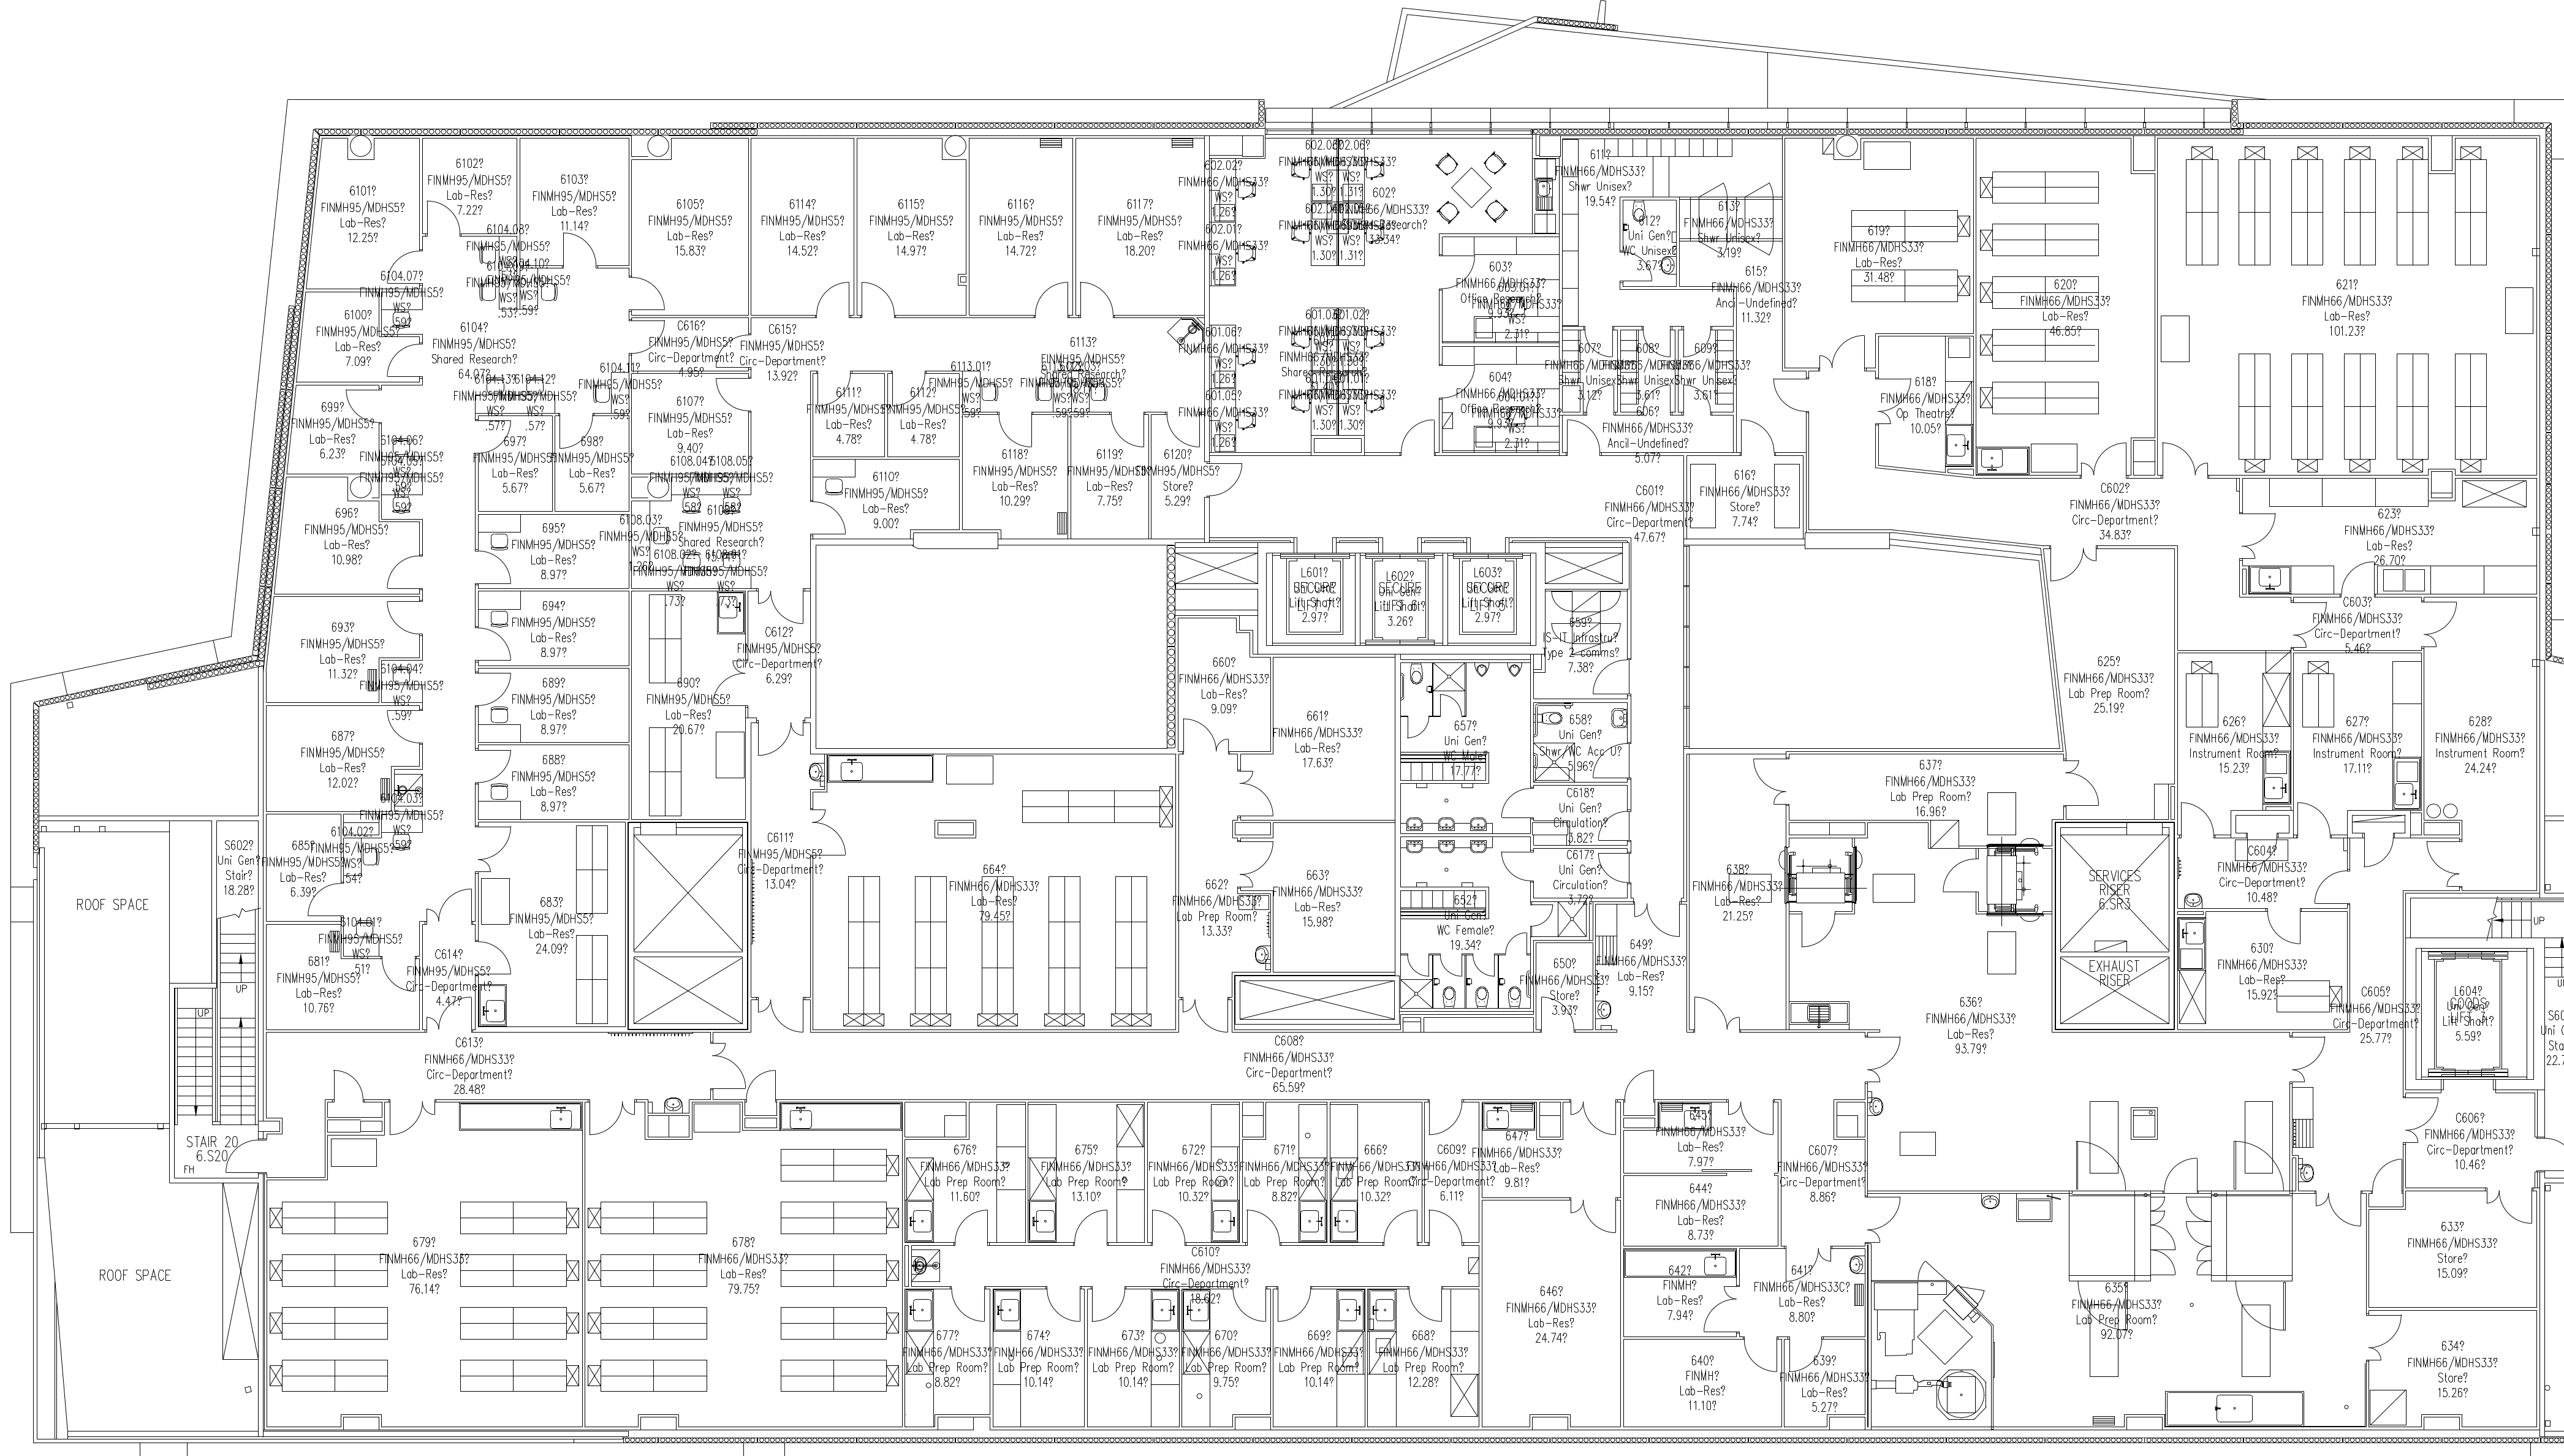door: (703, 657, 750, 713), (2180, 1194, 2212, 1276), (1782, 1232, 1837, 1280), (2150, 1195, 2182, 1276), (807, 803, 849, 863), (2358, 1312, 2407, 1363), (470, 822, 518, 875), (2288, 599, 2335, 650), (2418, 838, 2465, 889), (1868, 373, 1914, 426), (1234, 766, 1278, 820), (2059, 757, 2104, 808), (2238, 509, 2284, 560), (2418, 599, 2464, 650), (2078, 437, 2131, 481), (2161, 438, 2214, 482), (708, 1033, 747, 1093), (1569, 1097, 1618, 1143), (1567, 1192, 1618, 1236), (386, 1099, 438, 1141), (752, 995, 805, 1037), (1178, 713, 1231, 755), (1816, 331, 1868, 373), (2048, 540, 2101, 583), (2481, 1183, 2534, 1225), (1863, 1195, 1907, 1245), (1233, 838, 1275, 889), (1691, 993, 1742, 1035), (1699, 1283, 1742, 1335), (754, 586, 807, 627), (754, 717, 807, 757), (421, 884, 474, 924), (1178, 995, 1231, 1035), (1629, 898, 1682, 938), (2310, 1188, 2363, 1229), (1750, 755, 1791, 808), (1863, 1035, 1905, 1085), (1618, 1055, 1661, 1104), (421, 995, 472, 1035), (586, 1099, 637, 1139), (2402, 1093, 2441, 1144), (2288, 1035, 2326, 1085), (2157, 1153, 2201, 1195), (1742, 1333, 1780, 1379), (1437, 254, 1479, 294), (1594, 803, 1632, 843), (1495, 849, 1534, 889), (1787, 1333, 1826, 1371), (629, 319, 666, 359), (474, 417, 511, 458), (558, 412, 595, 452), (814, 280, 851, 320), (858, 278, 895, 319), (889, 366, 926, 407), (814, 366, 851, 407), (1032, 278, 1069, 319), (1078, 278, 1115, 319), (1108, 410, 1145, 451), (997, 408, 1034, 449), (810, 496, 847, 537), (1206, 460, 1243, 500), (1398, 417, 1435, 458), (1439, 363, 1476, 403), (1564, 419, 1601, 460), (1738, 417, 1775, 458), (1772, 377, 1809, 417), (1592, 657, 1629, 697), (1592, 739, 1629, 780), (1497, 783, 1534, 824), (1594, 850, 1631, 891), (2367, 1155, 2404, 1195), (1798, 910, 1835, 951), (1941, 856, 1978, 896), (2265, 907, 2302, 947), (2312, 864, 2349, 905), (2361, 833, 2398, 873), (2295, 799, 2332, 840), (2339, 556, 2376, 597), (475, 549, 512, 588), (475, 669, 512, 708), (474, 746, 511, 785), (386, 708, 423, 746), (306, 879, 343, 917), (380, 956, 417, 995), (328, 1067, 365, 1106), (224, 1137, 261, 1176), (474, 940, 511, 979), (951, 1208, 988, 1246), (1072, 1208, 1109, 1246), (949, 1287, 986, 1326), (1044, 1287, 1081, 1326), (1088, 1285, 1125, 1324), (1148, 1208, 1185, 1246), (1245, 1208, 1282, 1246), (1231, 1287, 1268, 1326), (1275, 1285, 1312, 1324), (1381, 1208, 1418, 1246), (1426, 1208, 1463, 1246), (1426, 1097, 1463, 1136), (1405, 1287, 1442, 1326), (1164, 410, 1201, 449), (2178, 799, 2215, 838), (426, 197, 461, 238), (386, 246, 421, 287), (386, 340, 421, 380), (343, 387, 379, 428), (386, 551, 421, 592), (474, 627, 509, 667), (386, 599, 421, 639), (715, 377, 752, 414), (562, 232, 597, 271), (630, 273, 666, 312), (743, 1067, 777, 1102), (1583, 324, 1617, 359), (1641, 324, 1675, 359), (1680, 382, 1713, 415), (1639, 384, 1673, 417), (1620, 250, 1654, 283), (1682, 324, 1713, 357), (1583, 384, 1615, 417), (1912, 1257, 1951, 1282), (1437, 951, 1465, 979), (1437, 692, 1465, 718), (1469, 951, 1497, 977), (1502, 930, 1529, 958), (1527, 903, 1555, 930), (1405, 713, 1432, 739), (1405, 949, 1432, 975)
